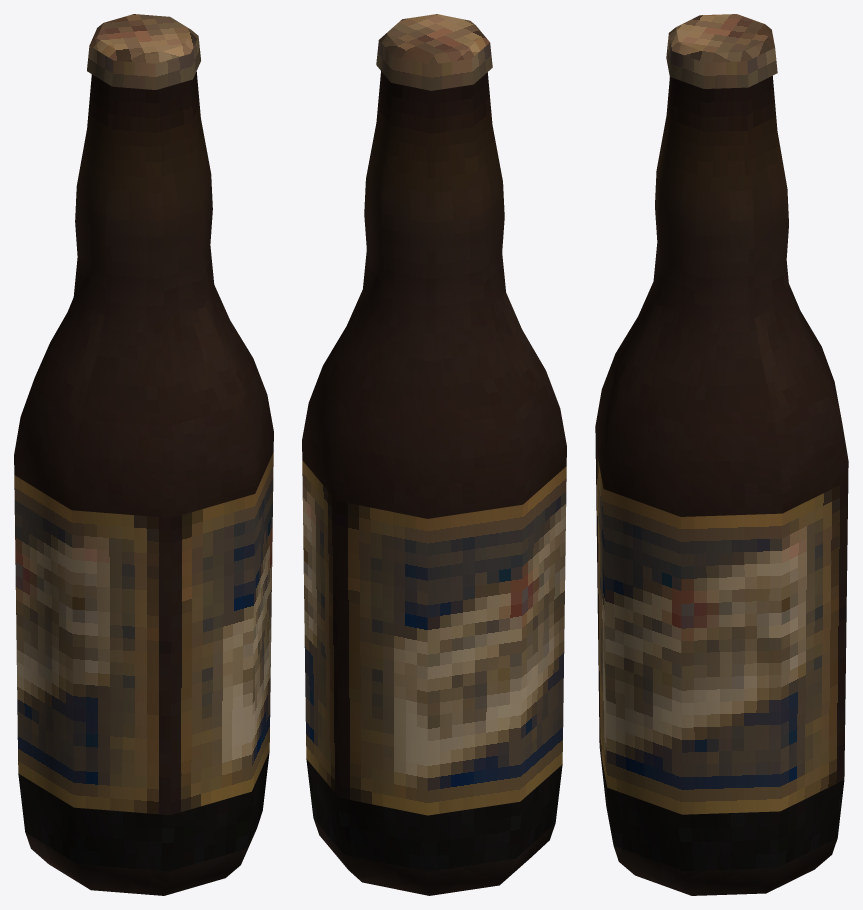
Rendered from glass_bottle_1.glb.
3 views of the same model, side by side, from view 1: azimuth 30°, elevation 25°; view 2: azimuth 150°, elevation 25°; view 3: azimuth 270°, elevation 25° (orthographic).
Visible parts, largest first — view 1: glass_bottle_1; view 2: glass_bottle_1; view 3: glass_bottle_1.
Boxes of the visible parts, x1,y1,x2,y2 form: glass_bottle_1: [14, 14, 273, 895]; glass_bottle_1: [302, 14, 566, 895]; glass_bottle_1: [595, 14, 848, 895].
Size of the model in its own units: 0.0986 by 0.3538 by 0.0986.
1 material, 1 textured.
